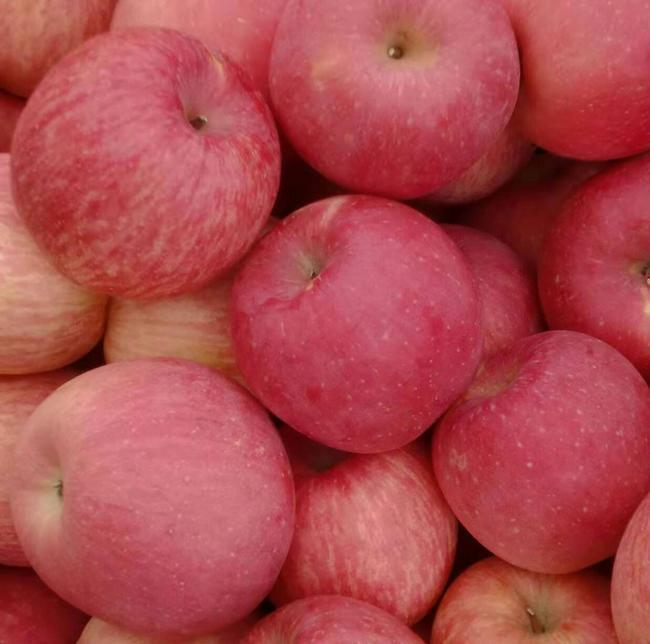apple: (11, 354, 302, 636), (12, 26, 287, 306), (228, 194, 485, 455), (434, 330, 645, 569), (267, 5, 521, 196), (263, 447, 455, 628), (531, 157, 649, 377), (508, 1, 649, 165), (431, 556, 624, 641)
